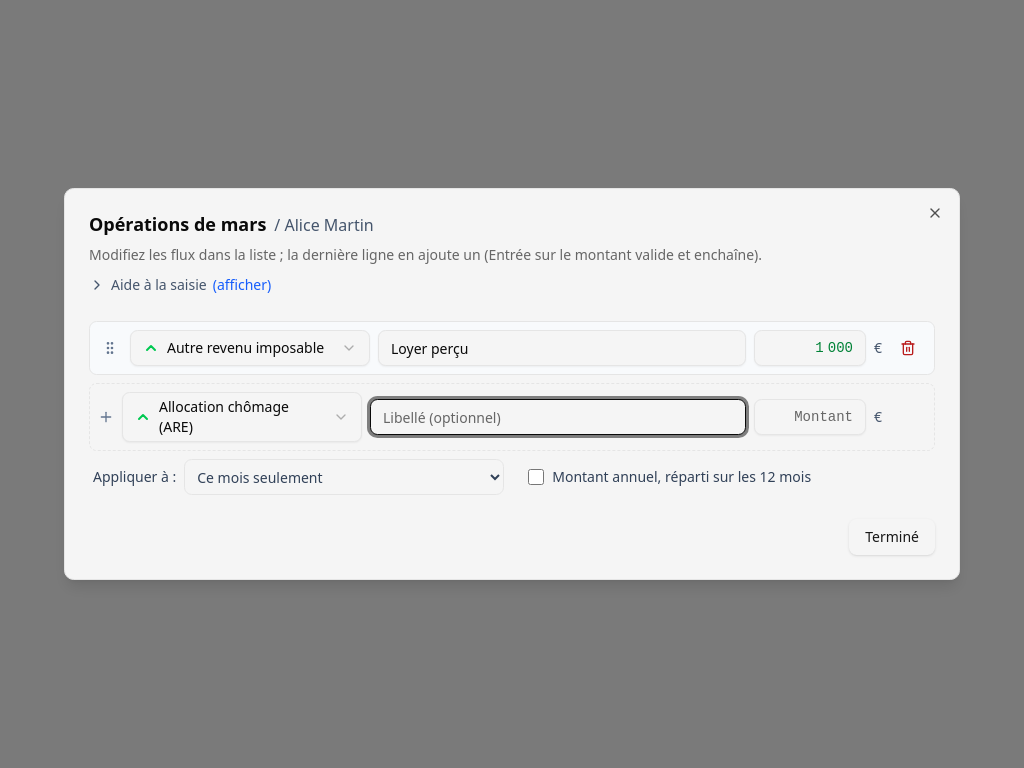
Test: MonthlyFlowsModal : lignes existantes › signale un montant invalide par un message lié au champ, sans rien enregistrer
Replace the text in the field named "Montant" with "mille" at {"x": 810, "y": 348}, box left=754, top=330, right=866, bottom=366
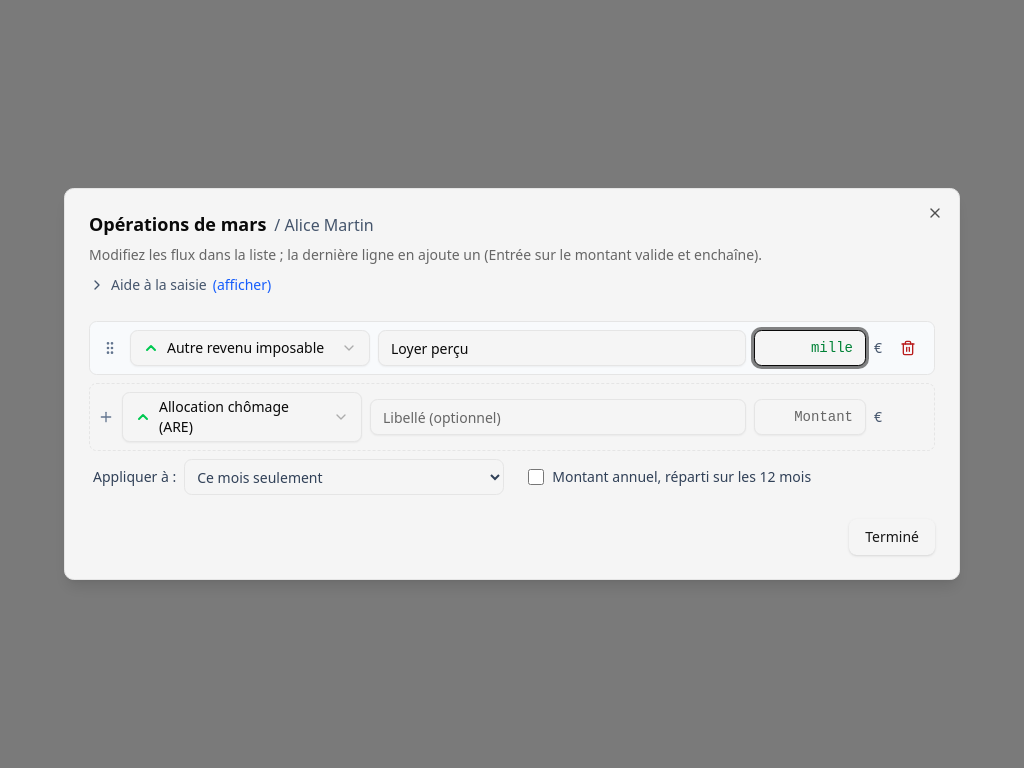
Press Tab
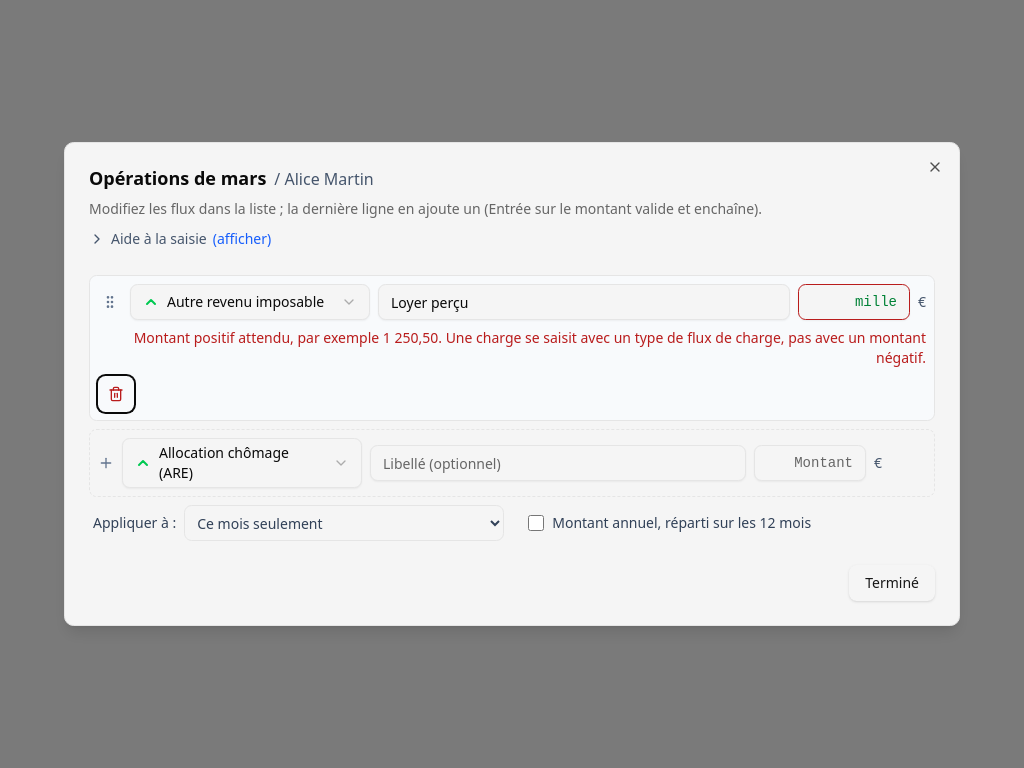
Expected: the message shows "Montant positif attendu", left=134, top=328, right=926, bottom=367
